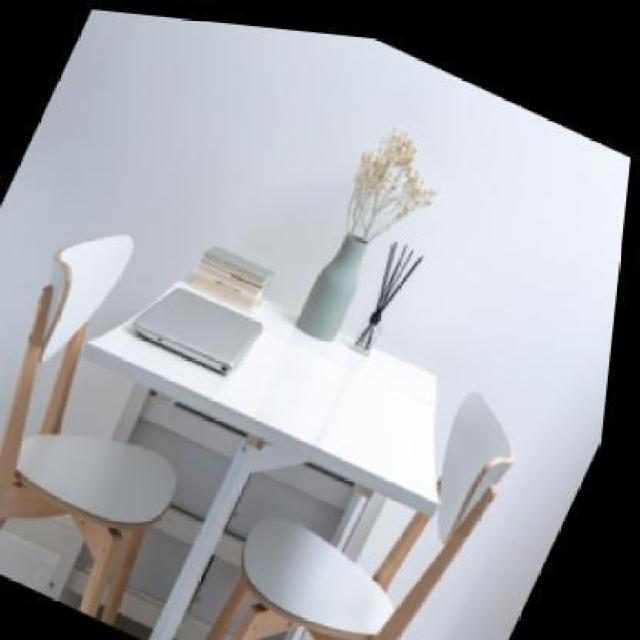tables: (83, 280, 440, 638)
